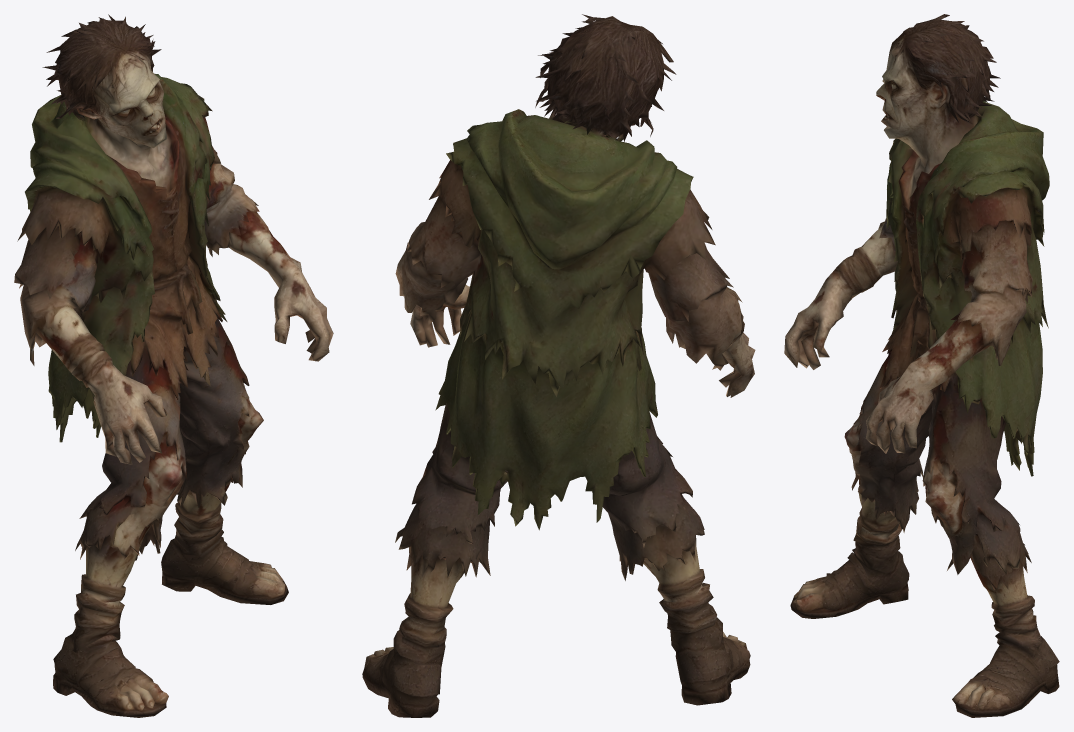
Rendered from original.glb.
The picture shows the model from 3 angles, left to right: view 1: azimuth 30°, elevation 25°; view 2: azimuth 150°, elevation 25°; view 3: azimuth 270°, elevation 25°; orthographic projection. The views are drawn at different scales.
Visible parts, largest first — view 1: tripo_node_95b6b82e-fe2e-4c22-9250-d6b50a5b17bf; view 2: tripo_node_95b6b82e-fe2e-4c22-9250-d6b50a5b17bf; view 3: tripo_node_95b6b82e-fe2e-4c22-9250-d6b50a5b17bf.
Part boxes in pixels (bbox=[...]): tripo_node_95b6b82e-fe2e-4c22-9250-d6b50a5b17bf: bbox=[14, 14, 333, 717]; tripo_node_95b6b82e-fe2e-4c22-9250-d6b50a5b17bf: bbox=[362, 14, 755, 717]; tripo_node_95b6b82e-fe2e-4c22-9250-d6b50a5b17bf: bbox=[784, 14, 1059, 717].
Bounding box in the file's own units: 0.4855 × 0.9747 × 0.4036.
Materials: 1 (1 with a texture image).
